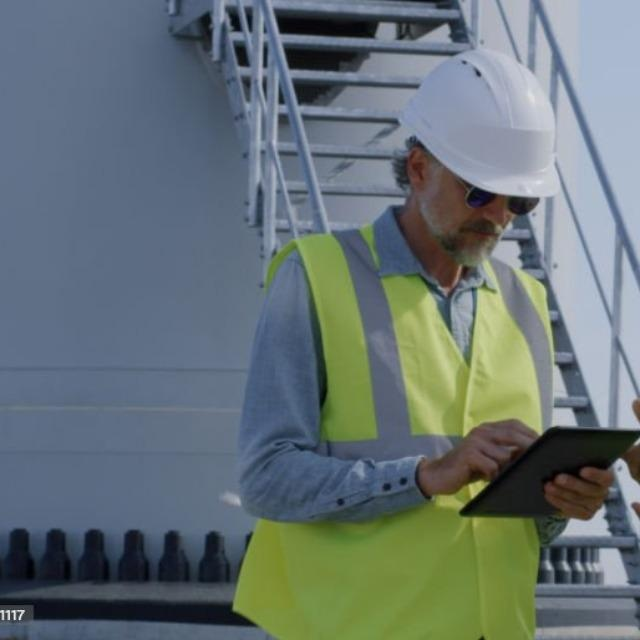Con_Casco: (392, 45, 562, 263)
Con_Chaleco: (261, 222, 555, 640)
